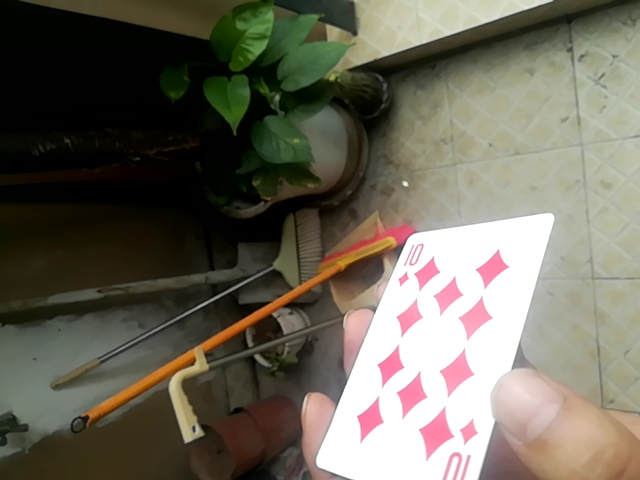fk 10: (309, 214, 552, 478)
